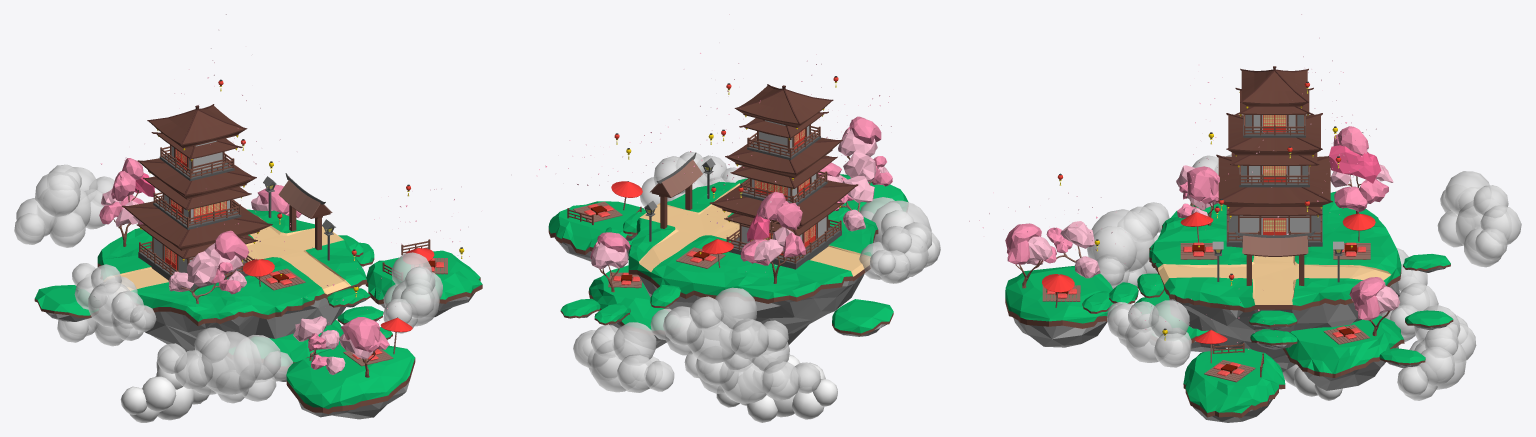
The model's file is land_4.fbx.
3 views of the same model, side by side, from view 1: azimuth 30°, elevation 25°; view 2: azimuth 150°, elevation 25°; view 3: azimuth 270°, elevation 25° (orthographic). The views are drawn at different scales.
Visible parts, largest first — view 1: land_04.097, land_04.010, Sphere.003, Sphere.048, Sphere.044, Sphere.045, Sphere.004, Sphere.050, Sphere.049, land_04.012, land_04.003, land_04.112 (+12 smaller); view 2: land_04.097, land_04.010, Sphere.044, Sphere.046, Sphere.001, land_04.012, Sphere.045, Sphere.050, Sphere.049, Sphere.055, Sphere.003, Sphere.004 (+15 smaller); view 3: land_04.097, land_04.010, Sphere.044, Sphere.048, Sphere.049, Sphere.055, Sphere.003, Sphere.004, Sphere.046, land_04.012, Sphere.001, land_04.008 (+21 smaller).
Boxes of the visible parts, bbox=[...] form: land_04.097: bbox=[97, 209, 366, 351]; land_04.010: bbox=[122, 104, 272, 289]; Sphere.003: bbox=[157, 327, 292, 403]; Sphere.048: bbox=[286, 345, 415, 419]; Sphere.044: bbox=[14, 164, 114, 247]; Sphere.045: bbox=[72, 263, 156, 340]; Sphere.004: bbox=[383, 252, 442, 333]; Sphere.050: bbox=[120, 362, 209, 422]; Sphere.049: bbox=[365, 250, 482, 317]; land_04.012: bbox=[99, 158, 154, 246]; land_04.003: bbox=[168, 251, 246, 303]; land_04.112: bbox=[293, 316, 345, 374]; land_04.097: bbox=[628, 181, 878, 345]; land_04.010: bbox=[709, 84, 858, 269]; Sphere.044: bbox=[650, 287, 788, 363]; Sphere.046: bbox=[573, 322, 674, 392]; Sphere.001: bbox=[684, 342, 820, 403]; land_04.012: bbox=[740, 191, 805, 283]; Sphere.045: bbox=[859, 222, 931, 283]; Sphere.050: bbox=[716, 354, 837, 422]; Sphere.049: bbox=[548, 201, 646, 265]; Sphere.055: bbox=[588, 265, 666, 348]; Sphere.003: bbox=[859, 197, 940, 283]; Sphere.004: bbox=[640, 151, 746, 206]; land_04.097: bbox=[1149, 197, 1401, 371]; land_04.010: bbox=[1216, 66, 1332, 247]; Sphere.044: bbox=[1437, 171, 1521, 267]; Sphere.048: bbox=[1005, 265, 1112, 347]; Sphere.049: bbox=[1183, 348, 1285, 422]; Sphere.055: bbox=[1282, 315, 1404, 390]; Sphere.003: bbox=[1087, 202, 1169, 288]; Sphere.004: bbox=[1107, 300, 1191, 367]; Sphere.046: bbox=[1397, 305, 1476, 400]; land_04.012: bbox=[1329, 126, 1393, 213]; Sphere.001: bbox=[1379, 247, 1438, 342]; land_04.008: bbox=[1234, 231, 1315, 285].
Bounding box in the file's own units: 33.53 × 31.25 × 39.1.
